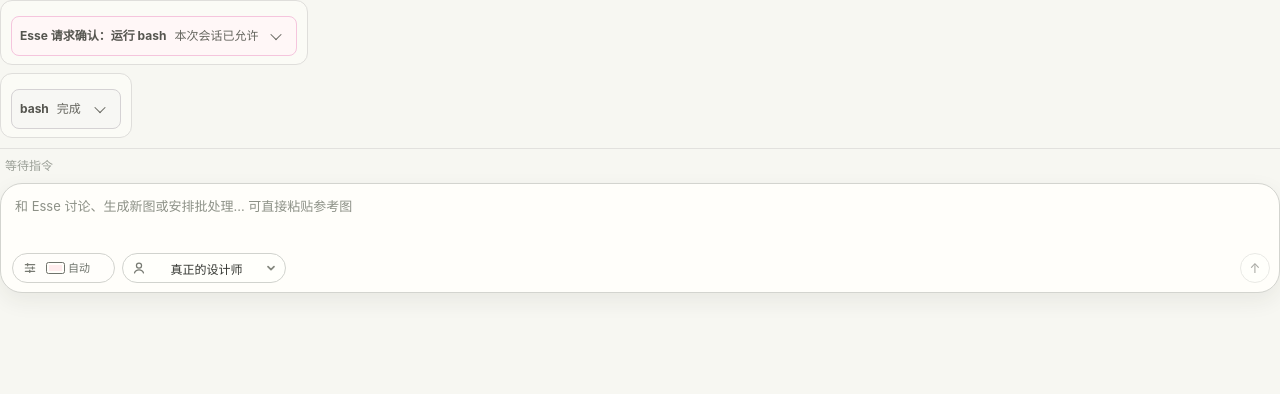
Test case: ProjectPlanPanel Esse permission cards › collapses approved permission cards once a newer message exists
Expected: the element named "Esse 操作确认" shows "Esse 请求确认：运行 bash", [20,28,166,43]
Expected: the element named "Esse 操作确认" shows "本次会话已允许", [174,28,258,43]
Step 1. Click the button named "展开请求" → x=276, y=36, box [264,24,288,48]
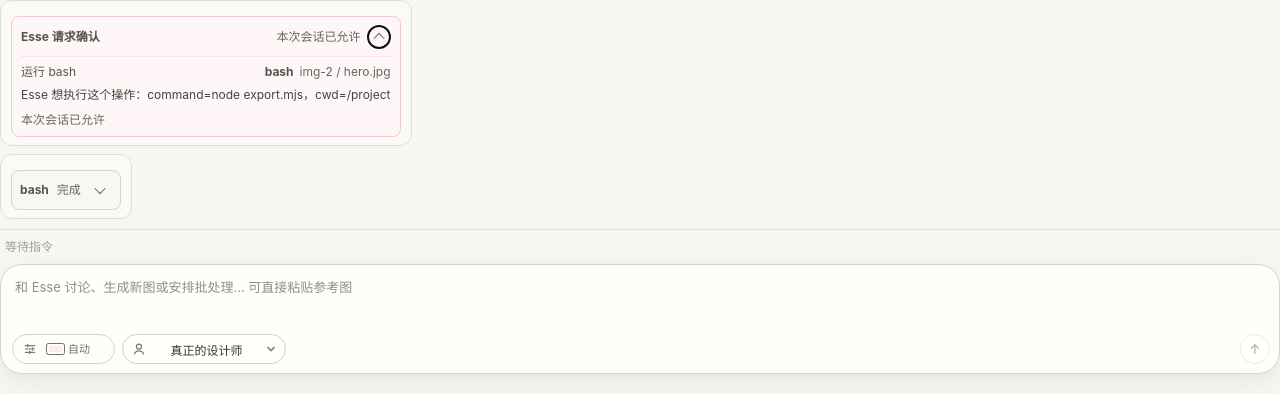
Expected: the text "Esse 想执行这个操作：command=node export.mjs，cwd=/project" is shown, [21,86,390,104]
Expected: the button named "收起请求" is shown, [366,25,390,49]
